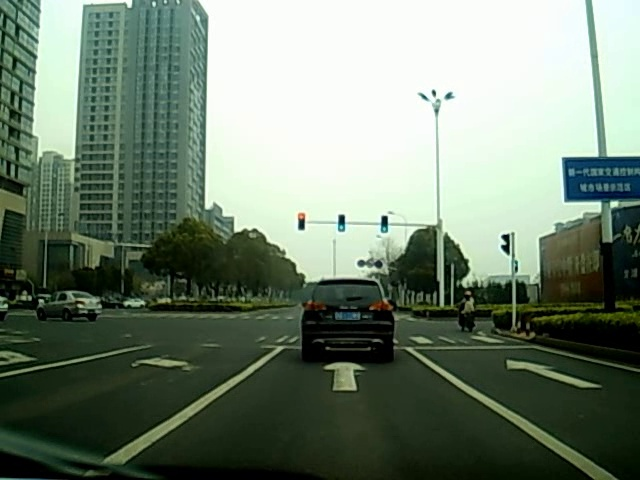Traffic_Light_go: (380, 215, 390, 236), (337, 215, 347, 234)
Traffic_Light_stop: (297, 211, 305, 230)
